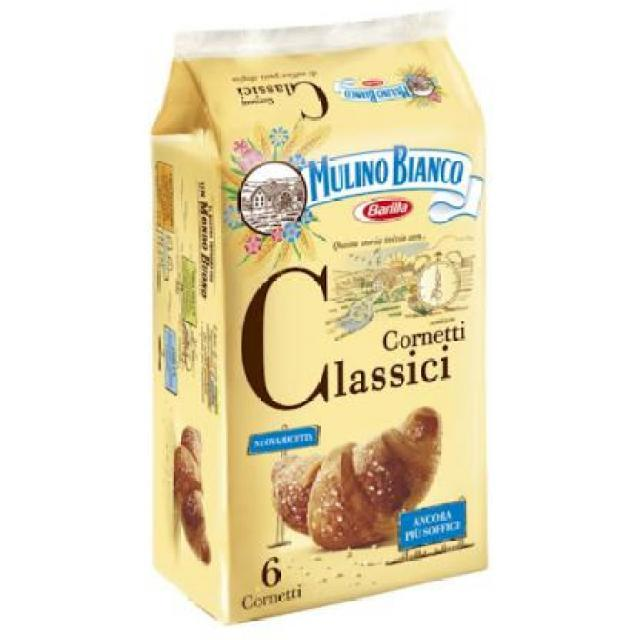Merendine: (150, 6, 492, 632)
